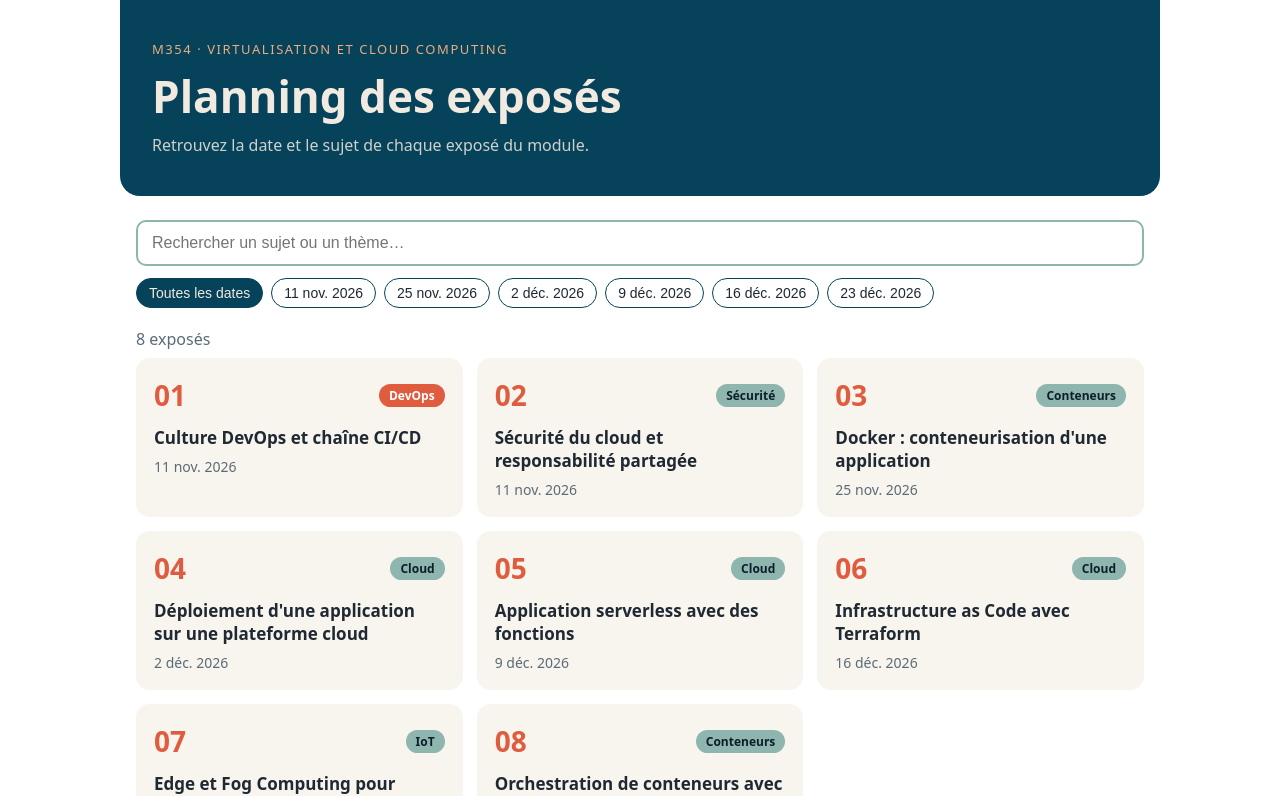
it: App › revient à toutes les dates
Click the button "25 nov. 2026": click(437, 293) [384,278,490,308]
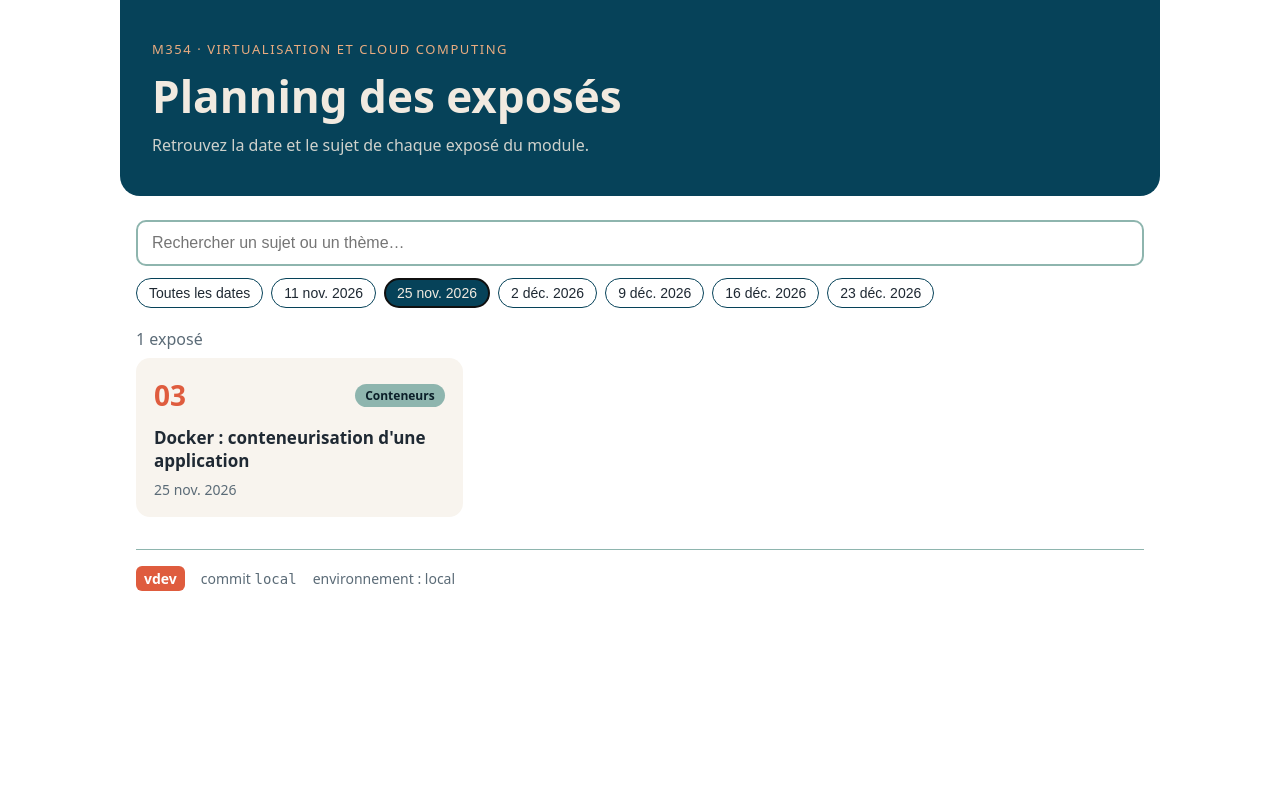
Click the button "Toutes les dates": click(200, 293) [136,278,263,308]
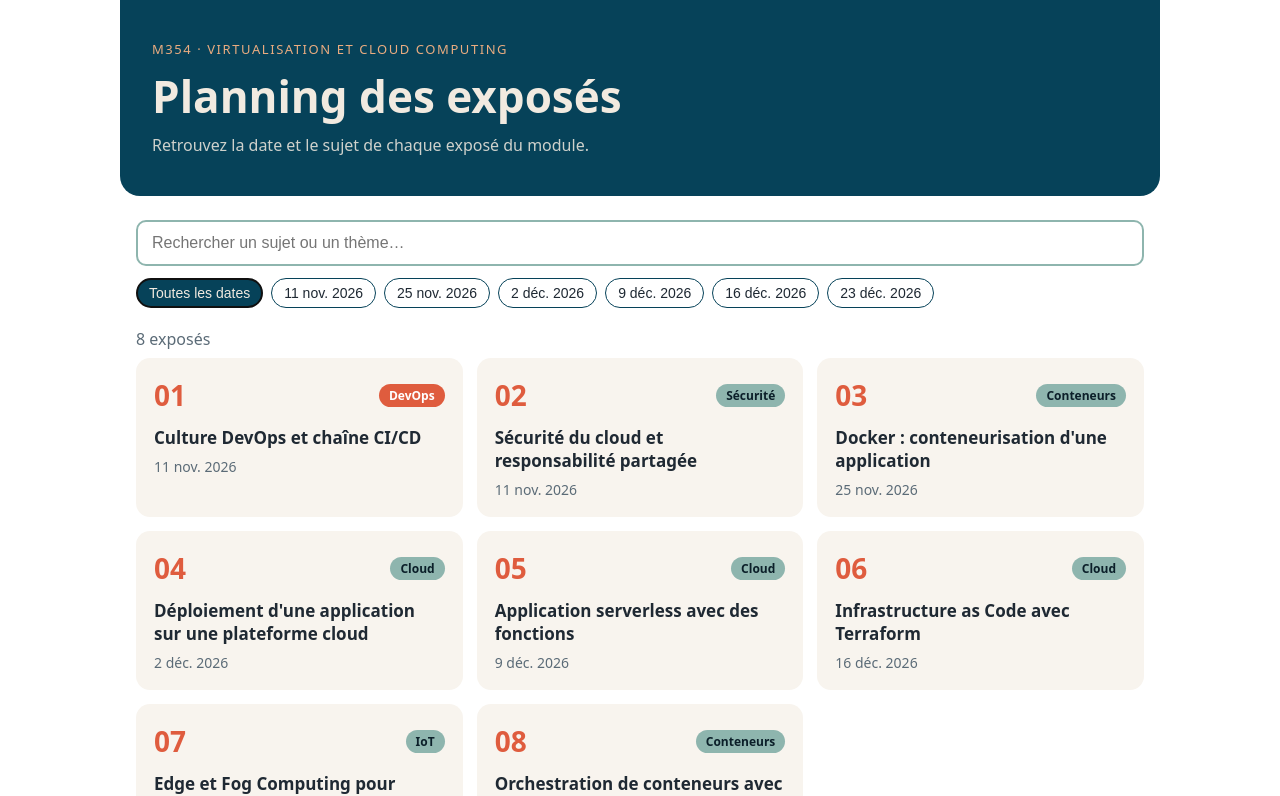
Expected: the number of list items with test id "expose" is 8
